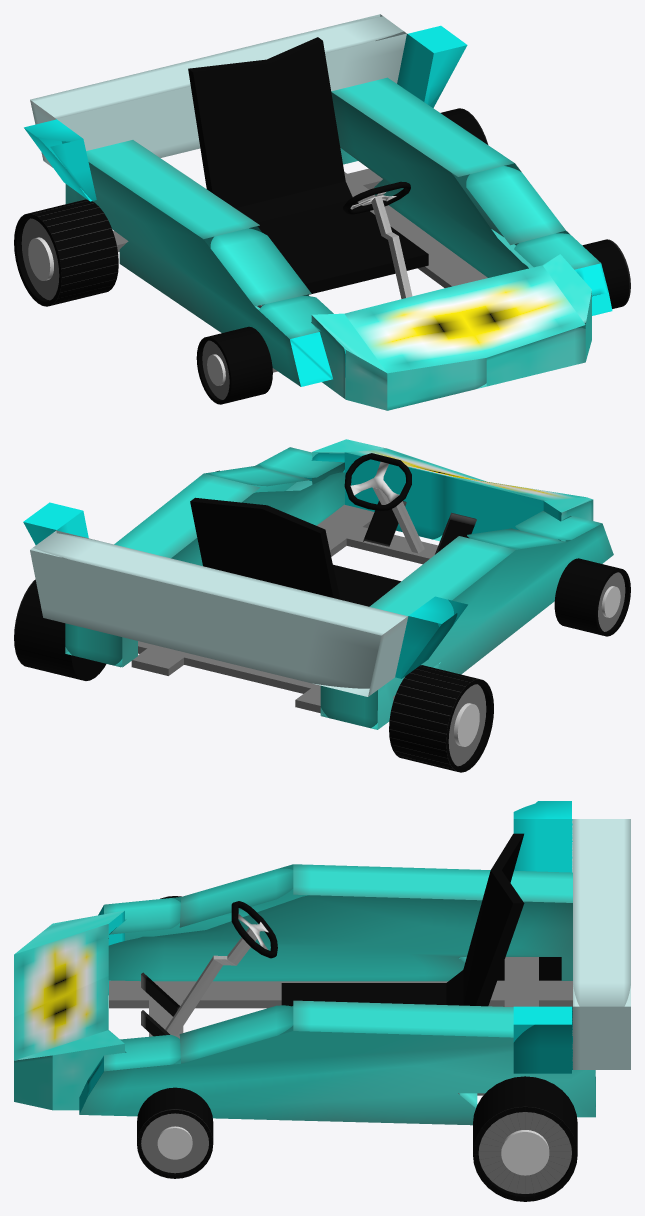
Rendered from Kart3.fbx.
3 renders of one model, top to bottom at view 1: azimuth 30°, elevation 25°; view 2: azimuth 150°, elevation 25°; view 3: azimuth 270°, elevation 25°, orthographic. The views are drawn at different scales.
Parts seen in each view (by area): view 1: Kart.001, Roda Traseira.002, Roda Frontal.002; view 2: Kart.001, Roda Traseira.002, Roda Frontal.002; view 3: Kart.001, Roda Traseira.002, Roda Frontal.002.
Boxes of the visible parts, box(x1,y1,x2,y2) form: Kart.001: box(24, 14, 612, 410); Roda Traseira.002: box(14, 108, 488, 306); Roda Frontal.002: box(196, 239, 630, 404); Kart.001: box(23, 439, 613, 729); Roda Traseira.002: box(14, 579, 493, 772); Roda Frontal.002: box(216, 470, 630, 636); Kart.001: box(14, 801, 630, 1125); Roda Traseira.002: box(473, 957, 577, 1201); Roda Frontal.002: box(137, 896, 213, 1178).
Bounding box in the file's own units: 248 × 109 × 280.
Materials: 1 (1 with a texture image).
